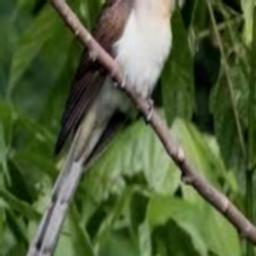Cuckoo: (18, 0, 190, 256)
